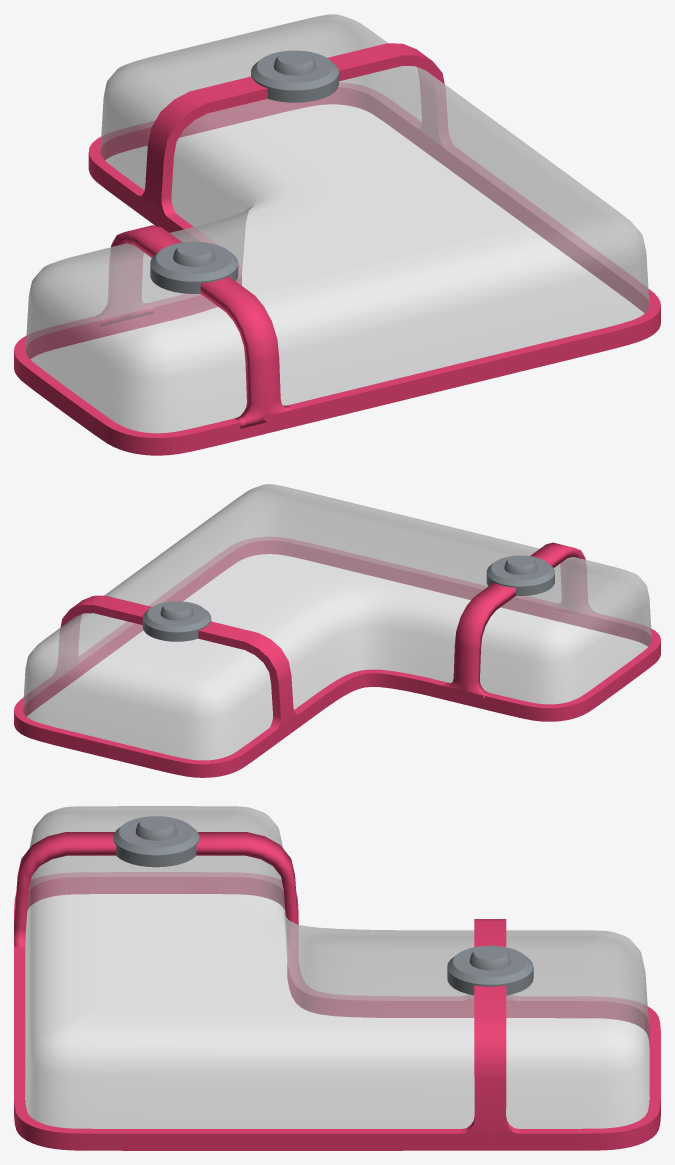
The model's file is hop_L_L_1_T2.fbx.
3 views of the same model, one above another, from view 1: azimuth 30°, elevation 25°; view 2: azimuth 150°, elevation 25°; view 3: azimuth 270°, elevation 25° (orthographic). The views are drawn at different scales.
Visible parts, largest first — view 1: Cube.180, Cube.181, Cylinder.214, Cylinder.209; view 2: Cube.180, Cube.181, Cylinder.214, Cylinder.209; view 3: Cube.180, Cube.181, Cylinder.209, Cylinder.214.
Part boxes in pixels (x1,y1,x2,y2): Cube.180: [25, 14, 649, 433]; Cube.181: [14, 43, 660, 455]; Cylinder.214: [251, 50, 338, 102]; Cylinder.209: [150, 241, 238, 293]; Cube.180: [23, 484, 651, 760]; Cube.181: [14, 537, 660, 777]; Cylinder.214: [142, 601, 211, 641]; Cylinder.209: [486, 555, 554, 595]; Cube.180: [25, 806, 649, 1128]; Cube.181: [14, 832, 660, 1150]; Cylinder.209: [113, 816, 199, 867]; Cylinder.214: [447, 945, 533, 995].
Bounding box in the file's own units: 328 × 75 × 343.
